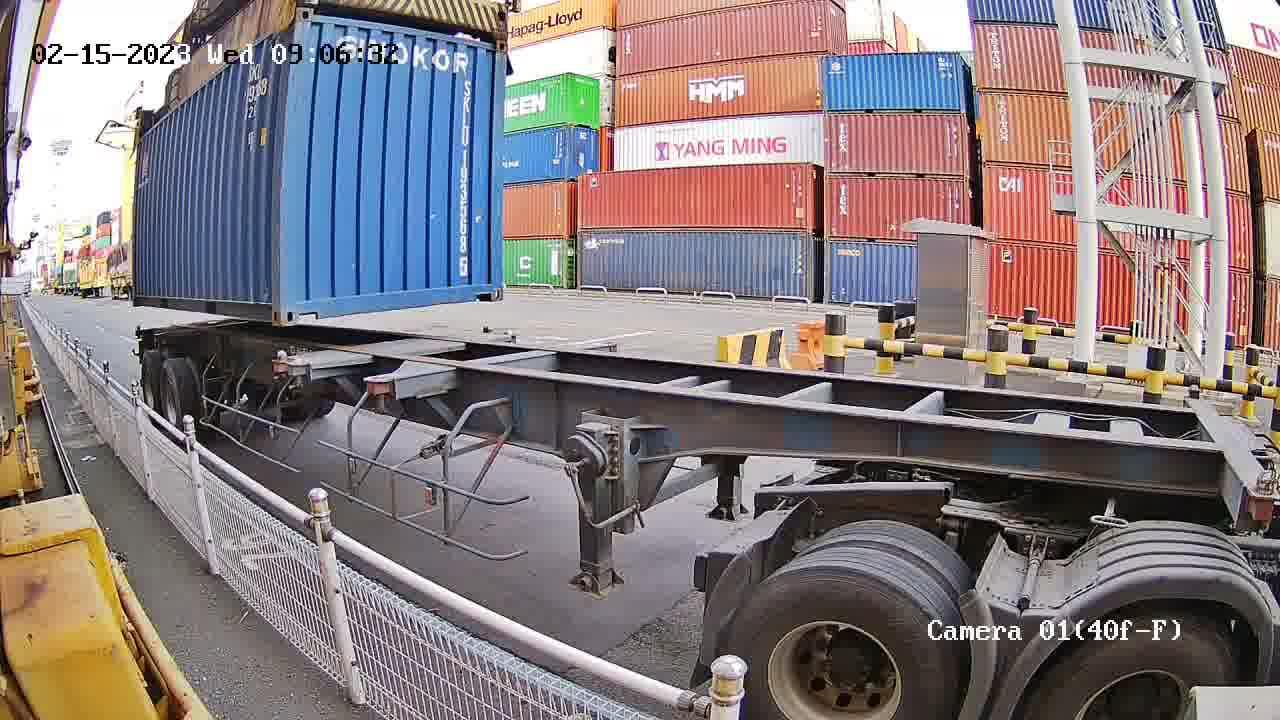Hole_L: (280, 270, 324, 324)
Hole_R: (462, 255, 504, 301), (250, 276, 283, 321)
Tire: (724, 570, 959, 714), (1020, 619, 1262, 714), (157, 358, 199, 418), (140, 349, 161, 411)
